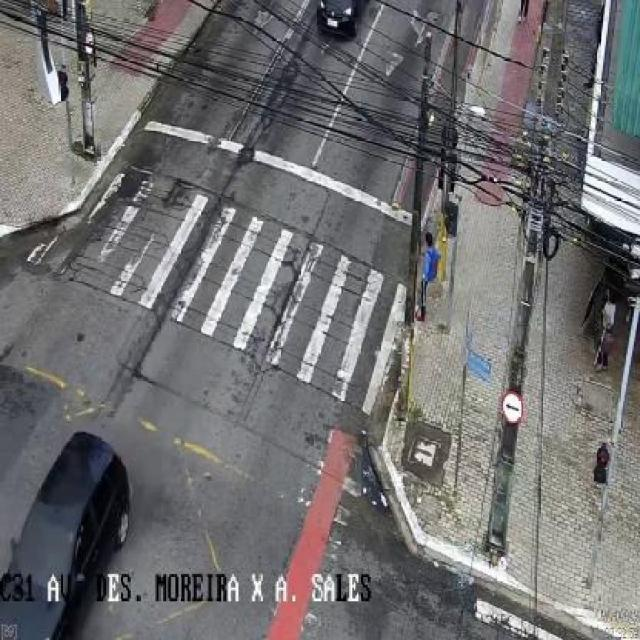Car: (9, 418, 152, 638), (307, 0, 386, 36)
